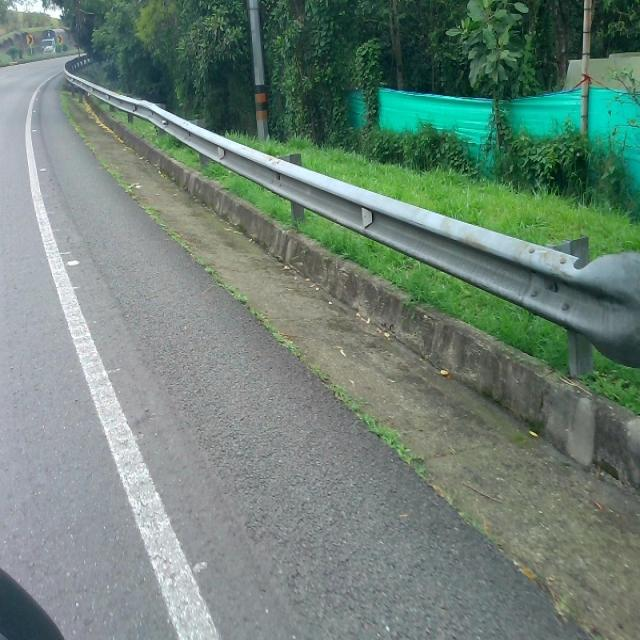DITCH: (1, 31, 638, 638), (26, 29, 636, 638), (32, 59, 638, 638)
